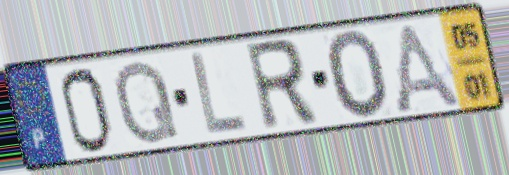0: (58, 64, 116, 155)
A: (390, 18, 467, 113)
L: (187, 49, 249, 137)
O: (323, 27, 392, 123)
Q: (111, 57, 182, 148)
R: (241, 36, 322, 135)
